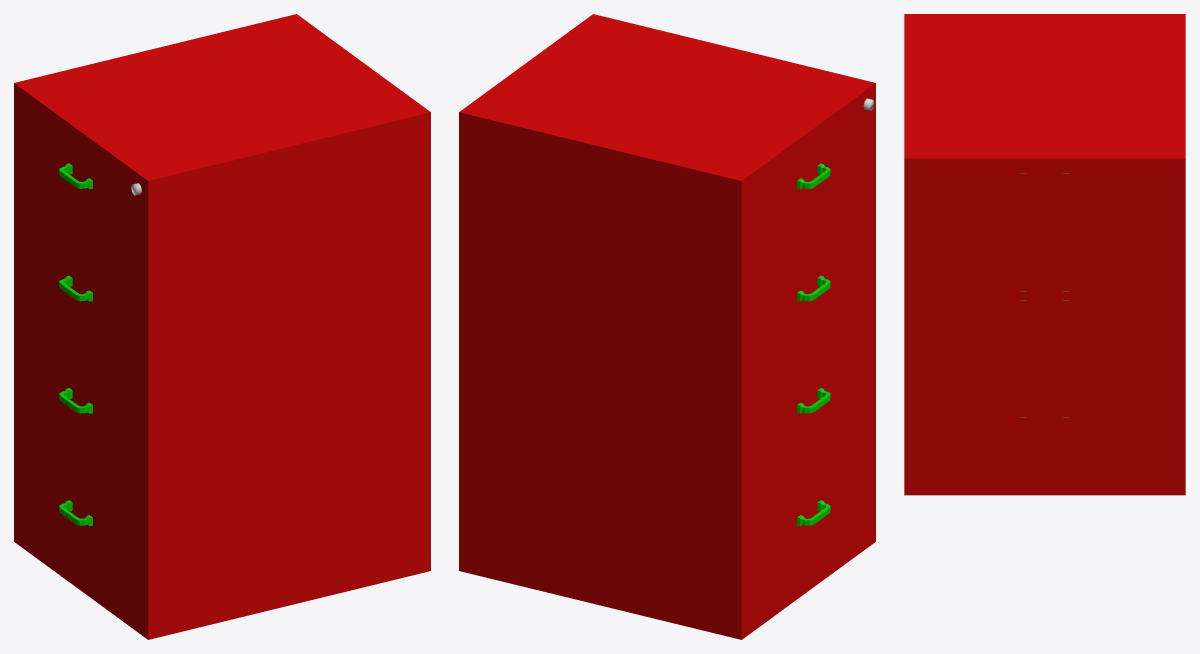
Rendered from File Cabinet Closed.fbx.
The picture shows the model from 3 angles, left to right: view 1: azimuth 30°, elevation 25°; view 2: azimuth 150°, elevation 25°; view 3: azimuth 270°, elevation 25°; orthographic projection. The views are drawn at different scales.
Parts seen in each view (by area): view 1: Cube.012; view 2: Cube.012; view 3: Cube.012.
Boxes of the visible parts, bbox=[...] form: Cube.012: bbox=[14, 14, 430, 639]; Cube.012: bbox=[459, 14, 875, 639]; Cube.012: bbox=[904, 14, 1185, 495].
Size of the model in its own units: 98.83 by 146 by 77.6.
